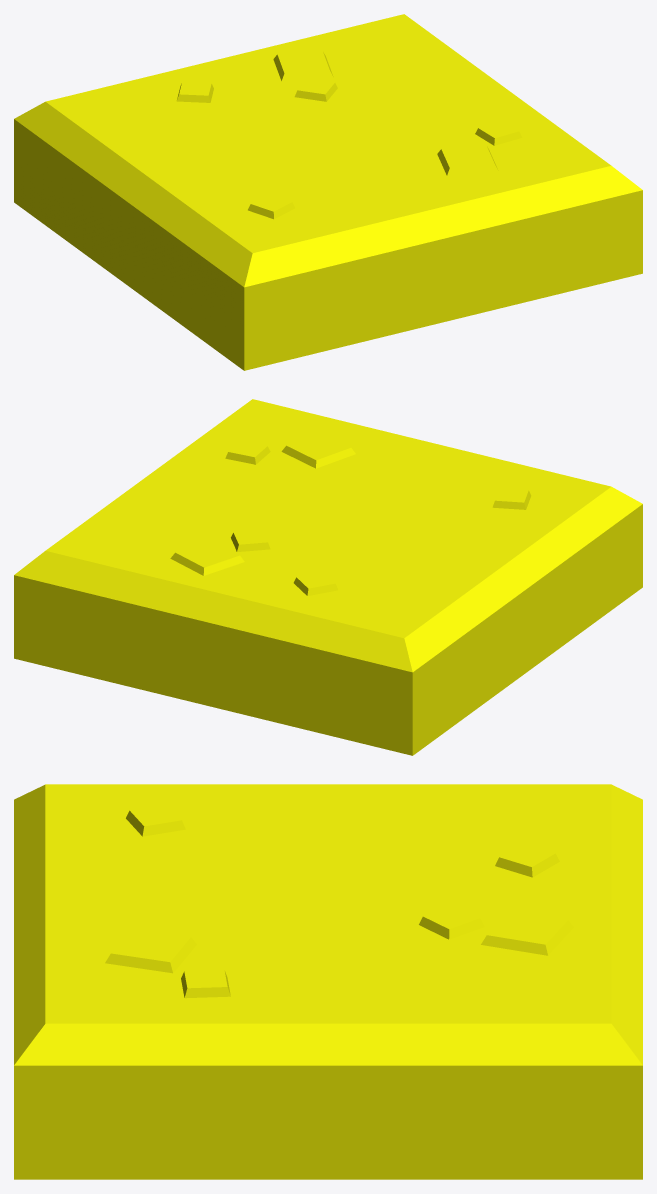
Rendered from kaykit-floor-dirt-small.glb.
3 renders of one model, top to bottom at view 1: azimuth 30°, elevation 25°; view 2: azimuth 150°, elevation 25°; view 3: azimuth 270°, elevation 25°, orthographic. The views are drawn at different scales.
Visible parts, largest first — view 1: floor_dirt_small; view 2: floor_dirt_small; view 3: floor_dirt_small.
Boxes of the visible parts, box(x1,y1,x2,y2) form: floor_dirt_small: box(14, 14, 642, 370); floor_dirt_small: box(14, 399, 642, 755); floor_dirt_small: box(14, 784, 642, 1179).
Bounding box in the file's own units: 2 × 0.5301 × 2.
